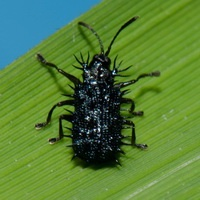insect: (35, 16, 159, 163)
